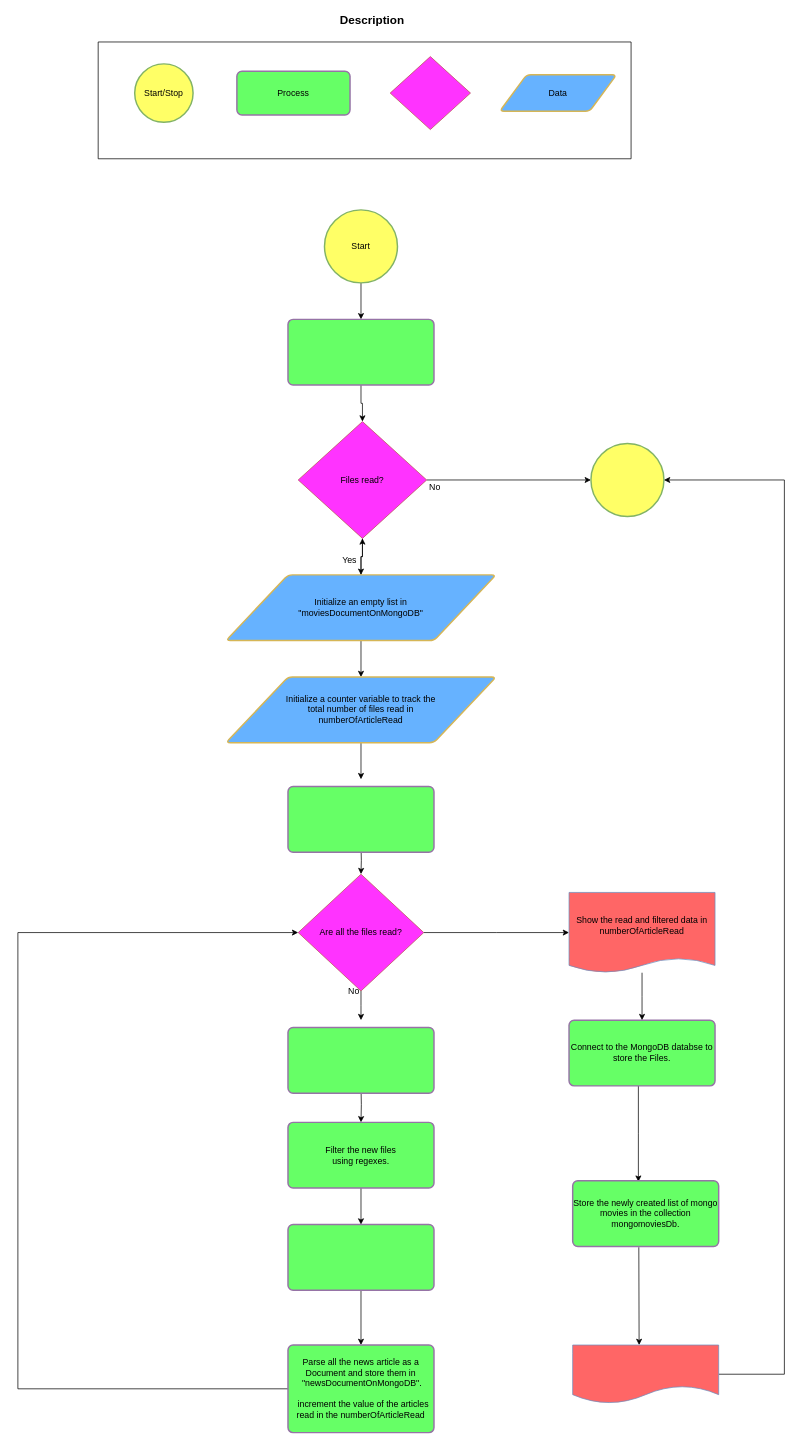
This 803x1445 diagram has some shape labels left out. The centre of each missing label's shape, as x and y in pixels:
"Decision" goes at point 429,93.
"Display the message that moviesare stored successfully on the MongoDb" goes at point 645,1373.
"Go through each of the JSON files names in a loop." goes at point 360,819.
"Read the data stored in the current JSON news movies file." goes at point 360,1060.
"Read the file names for each extracted data stored in JSON format." goes at point 360,351.
"Separate the filtered movie articles file into separate files." goes at point 360,1257.
"Stop" goes at point 627,479.
